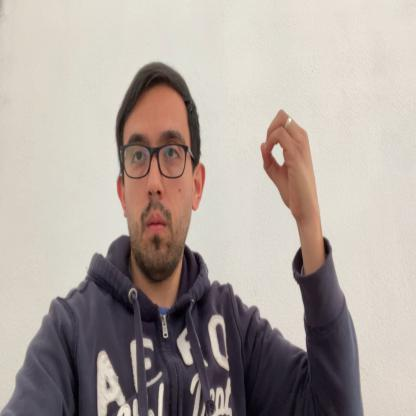O: (260, 109, 316, 221)
